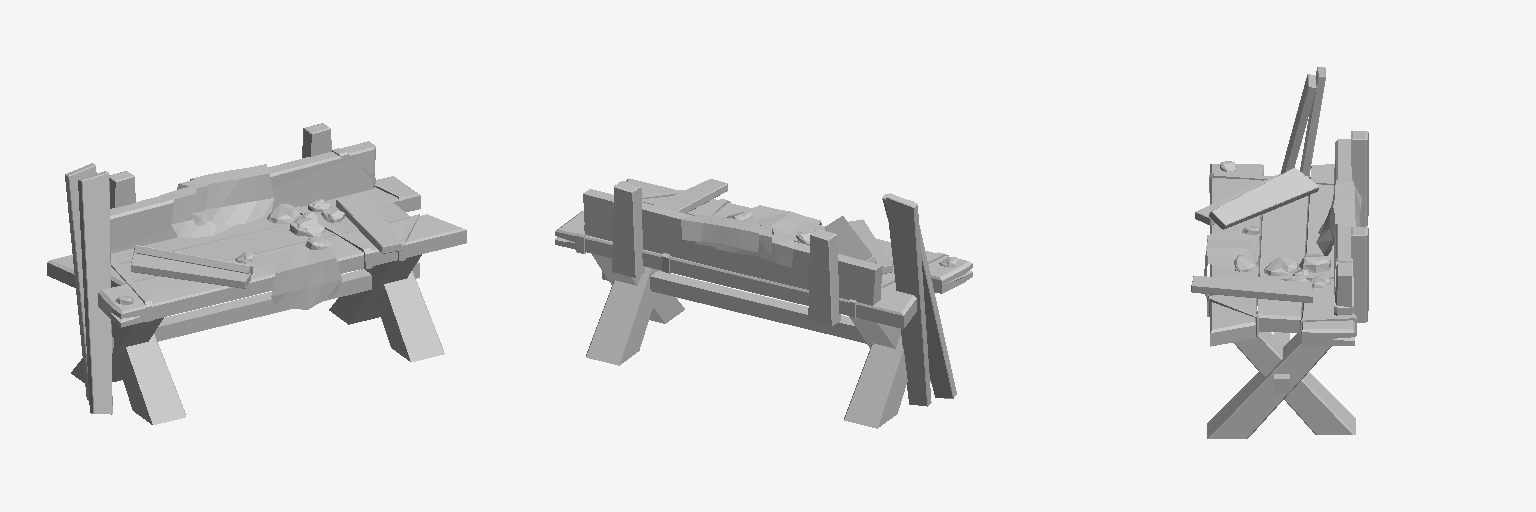
The model's file is Workbench_Plane.008.obj.
The picture shows the model from 3 angles: view 1: azimuth 30°, elevation 25°; view 2: azimuth 150°, elevation 25°; view 3: azimuth 270°, elevation 25°; orthographic projection.
Parts seen in each view (by area): view 1: Workbench_Plane.008_0; view 2: Workbench_Plane.008_0; view 3: Workbench_Plane.008_0.
Boxes of the visible parts, box(x1,y1,x2,y2) form: Workbench_Plane.008_0: box(47, 123, 466, 424); Workbench_Plane.008_0: box(555, 178, 972, 428); Workbench_Plane.008_0: box(1191, 67, 1368, 438).
Bounding box in the file's own units: 3.05 × 1.85 × 1.33.